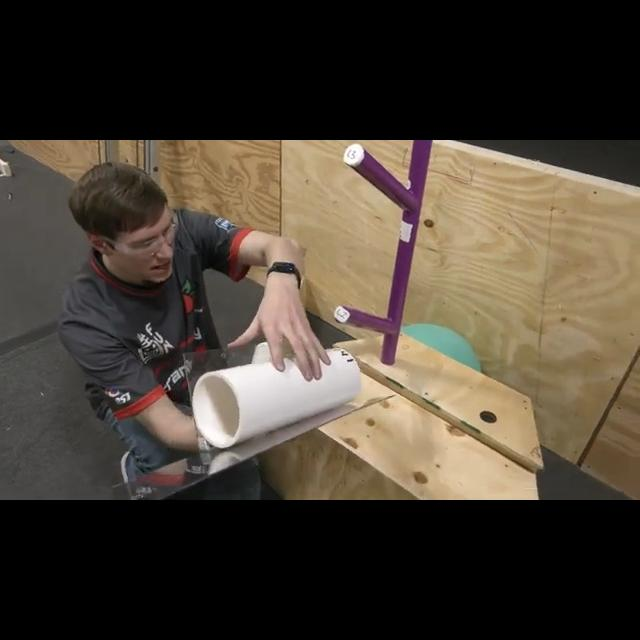CORAL: (190, 342, 362, 450)
